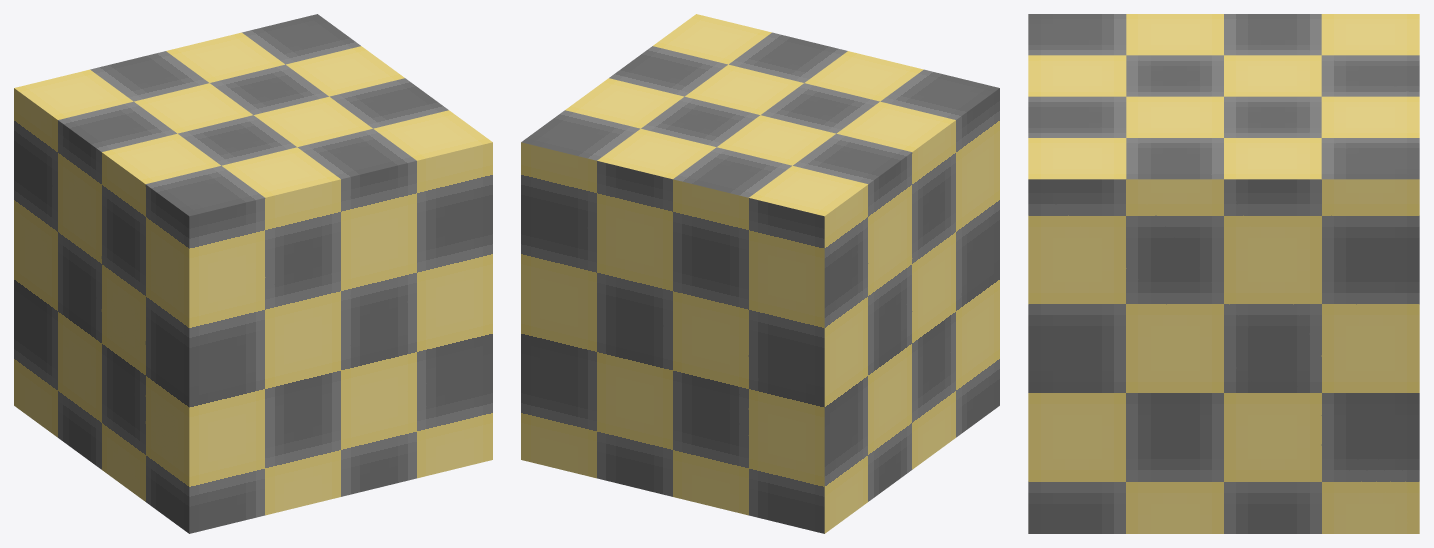
Rendered from obstacle.fbx.
3 renders of one model, left to right at view 1: azimuth 30°, elevation 25°; view 2: azimuth 150°, elevation 25°; view 3: azimuth 270°, elevation 25°, orthographic. The views are drawn at different scales.
Visible parts, largest first — view 1: Cube; view 2: Cube; view 3: Cube.
Boxes of the visible parts, x1,y1,x2,y2 form: Cube: (14, 14, 492, 533); Cube: (521, 14, 999, 533); Cube: (1028, 14, 1419, 533).
Bounding box in the file's own units: 200 × 200 × 200.
Materials: 1 (1 with a texture image).
